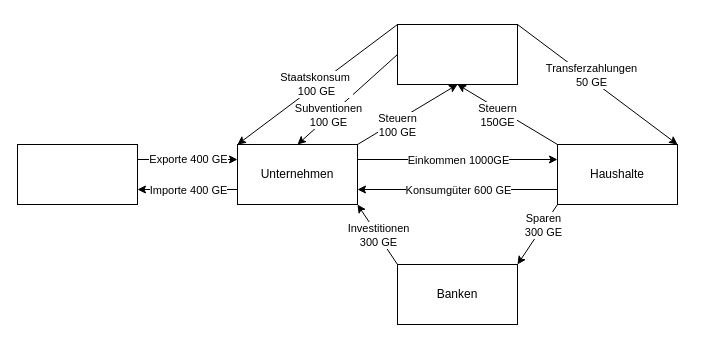
This 703x342 diagram has some shape labels left out. Here are the shapes that lost their labels. From the top down, the box of each, then its label:
(396, 24, 518, 84): Staat
(16, 144, 138, 204): Ausland
